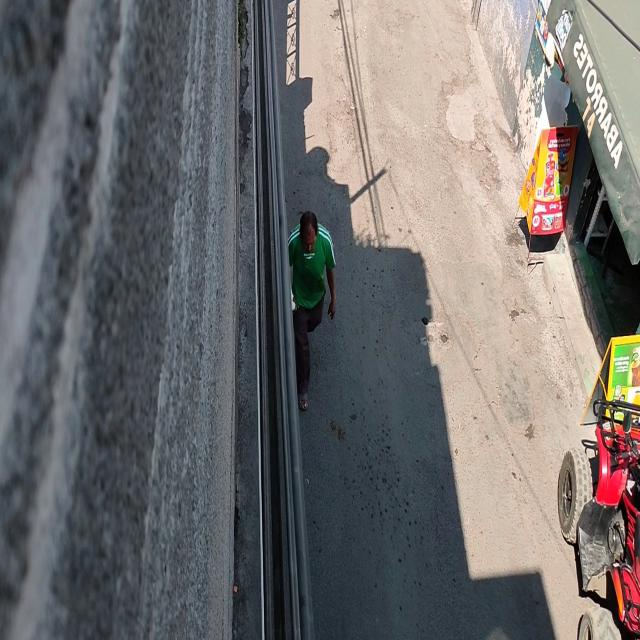adult: (283, 209, 338, 416)
